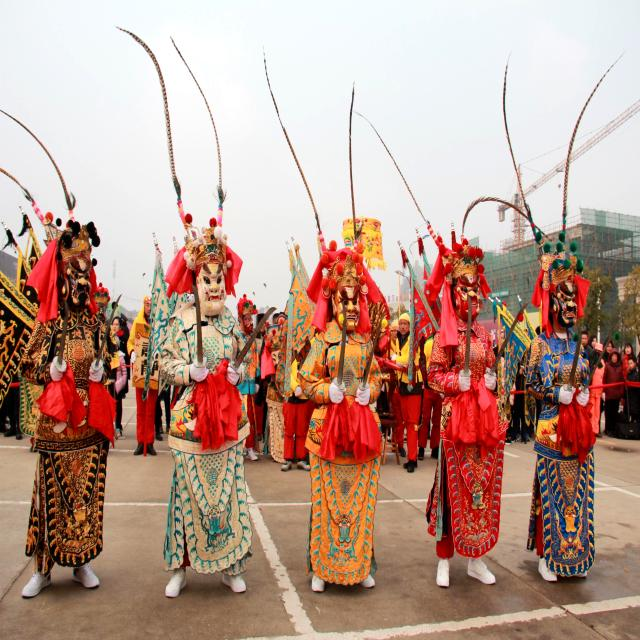Reeves-s Pheasant: (118, 28, 183, 211), (264, 52, 321, 234), (562, 60, 617, 230), (0, 109, 75, 215), (171, 36, 222, 190), (357, 113, 428, 222), (503, 56, 524, 202), (462, 196, 528, 234), (0, 167, 42, 218), (349, 82, 357, 239)
